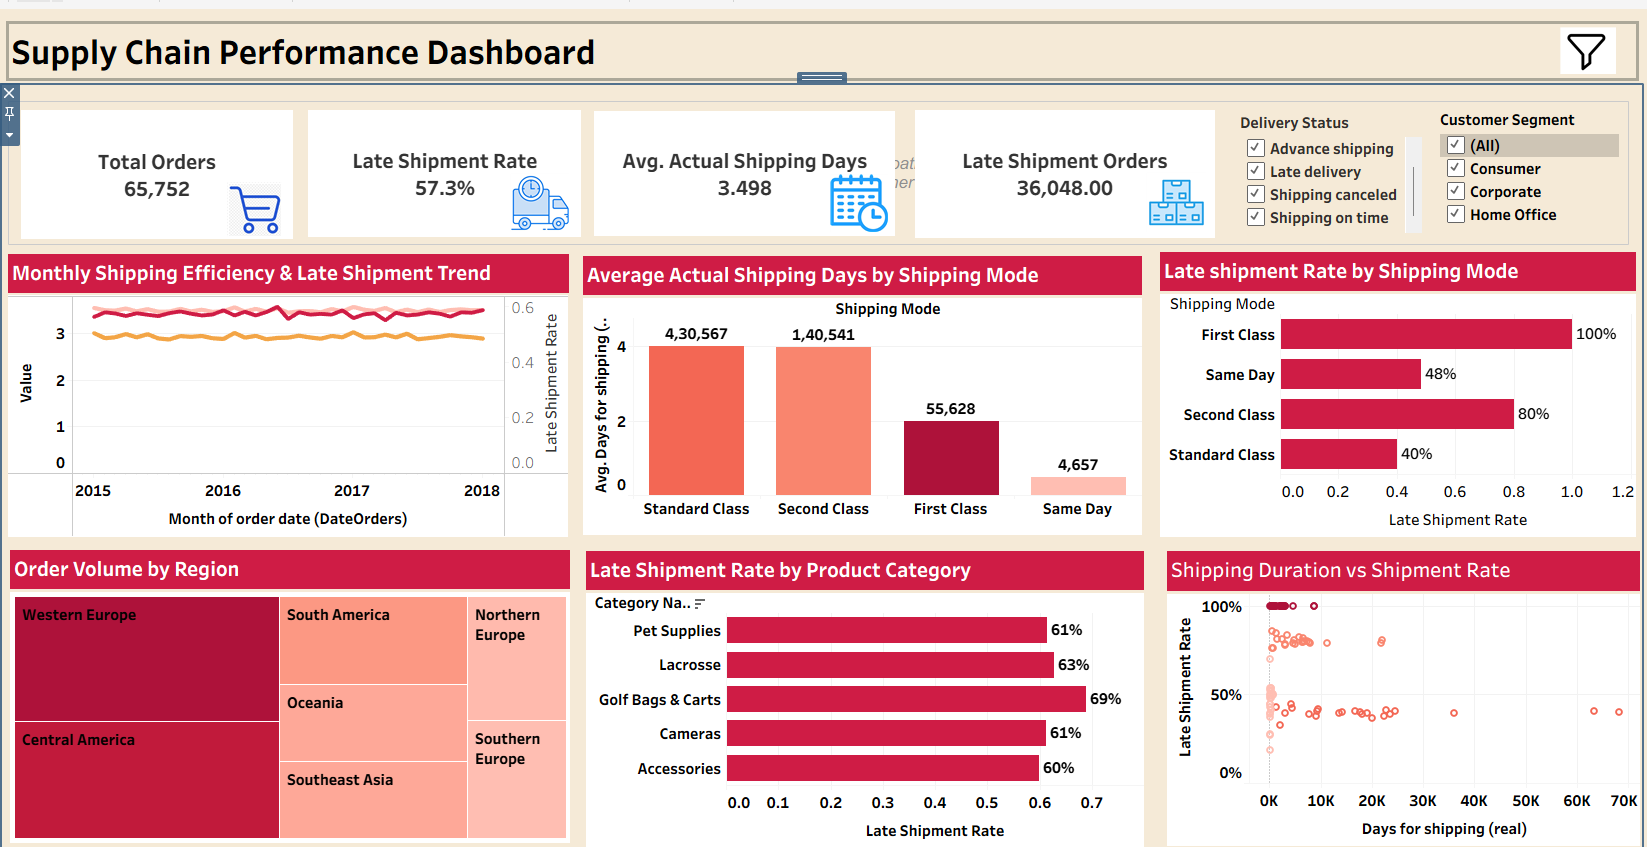

What the dashboard file says about the page in this screenshot:
{"tool":"tableau","page":{"name":"Executive Overview","canvas":[1000,1000],"units":"permille","ordinal":0},"visuals":[{"type":"title","box":[4.8,9.4,990.3,79.9]},{"type":"image","param":"Image/Screenshot 2026-07-31 190438.png","box":[936.6,21.2,50.7,55.2]},{"type":"filter","title":"late shipment orders","param":"[federated.01eu54e0ddccgk1fg6cpc0apv28z].[none:Customer Segment:nk]","box":[872.7,117.5,108,155.1]},{"type":"worksheet","title":"Total orders","mark":"Automatic","box":[16.3,118.7,164.2,151.6]},{"type":"worksheet","title":"Late Rate","mark":"Automatic","box":[189.5,118.7,164.8,149.2]},{"type":"worksheet","title":"late shipment orders","mark":"Automatic","box":[555.8,118.7,181.1,150.4]},{"type":"worksheet","title":"Average Actual shipping days","mark":"Automatic","box":[362.1,119.9,181.7,146.9]},{"type":"filter","title":"monthly shipping trend","param":"[federated.01eu54e0ddccgk1fg6cpc0apv28z].[none:Delivery Status:nk]","box":[752,121,109.8,142.2]},{"type":"image","param":"Image/orders rate.jpg","box":[693.4,191.5,40.4,70.5]},{"type":"image","param":"Image/shipemnt rate.jpg","box":[307.2,192.7,44.1,69.3]},{"type":"image","param":"Image/avg rate.jpg","box":[501.5,193.9,41.6,68.2]},{"type":"image","param":"Image/basket.jpg","box":[140.6,203.3,41,64.6]},{"type":"worksheet","title":"Shipping mode performance","mark":"Automatic","rows":["Shipping Mode"],"cols":["Calculation_0814801270517762"],"box":[703.7,285.6,287.3,334.9]},{"type":"worksheet","title":"monthly shipping trend","mark":"Line","rows":["Calculation_0814801270517762"],"cols":["order date (DateOrders)"],"box":[8.4,287.9,338.6,332.6]},{"type":"worksheet","title":"Shipping mode column chart","mark":"Automatic","rows":["Days for shipping (real)"],"cols":["Shipping Mode"],"box":[355.5,290.2,337.4,327.9]},{"type":"worksheet","title":"regional volume by region","mark":"Automatic","box":[9.7,635.7,338,344.3]},{"type":"worksheet","title":"Category delay analysis","mark":"Automatic","rows":["Category Name"],"cols":["Calculation_0814801270517762"],"box":[357.3,636.9,336.8,349]},{"type":"worksheet","title":"Scatter Plot","mark":"Automatic","rows":["Calculation_0814801270517762"],"cols":["Days for shipping (real)"],"box":[707.9,636.9,285.5,346.7]}]}

Visuals, with their boxes on the dashboard's canvas, which has no fixed pixel size, in thousandths of its width and height (x1, y1, x2, y2). These are canvas units, not pixel positions in the 1647x847 screenshot, which may show the page scaled, cropped or inside an application window:
title: {"x1": 5, "y1": 9, "x2": 995, "y2": 89}
image: {"x1": 937, "y1": 21, "x2": 987, "y2": 76}
"late shipment orders" filter: {"x1": 873, "y1": 118, "x2": 981, "y2": 273}
"Total orders" worksheet: {"x1": 16, "y1": 119, "x2": 180, "y2": 270}
"Late Rate" worksheet: {"x1": 190, "y1": 119, "x2": 354, "y2": 268}
"late shipment orders" worksheet: {"x1": 556, "y1": 119, "x2": 737, "y2": 269}
"Average Actual shipping days" worksheet: {"x1": 362, "y1": 120, "x2": 544, "y2": 267}
"monthly shipping trend" filter: {"x1": 752, "y1": 121, "x2": 862, "y2": 263}
image: {"x1": 693, "y1": 192, "x2": 734, "y2": 262}
image: {"x1": 307, "y1": 193, "x2": 351, "y2": 262}
image: {"x1": 502, "y1": 194, "x2": 543, "y2": 262}
image: {"x1": 141, "y1": 203, "x2": 182, "y2": 268}
"Shipping mode performance" worksheet: {"x1": 704, "y1": 286, "x2": 991, "y2": 620}
"monthly shipping trend" worksheet (Line marks): {"x1": 8, "y1": 288, "x2": 347, "y2": 620}
"Shipping mode column chart" worksheet: {"x1": 356, "y1": 290, "x2": 693, "y2": 618}
"regional volume by region" worksheet: {"x1": 10, "y1": 636, "x2": 348, "y2": 980}
"Category delay analysis" worksheet: {"x1": 357, "y1": 637, "x2": 694, "y2": 986}
"Scatter Plot" worksheet: {"x1": 708, "y1": 637, "x2": 993, "y2": 984}
